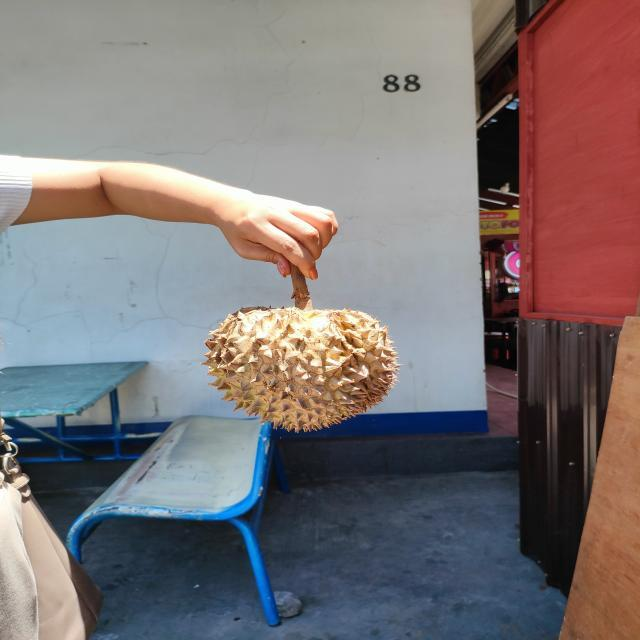mature: (200, 303, 403, 432)
